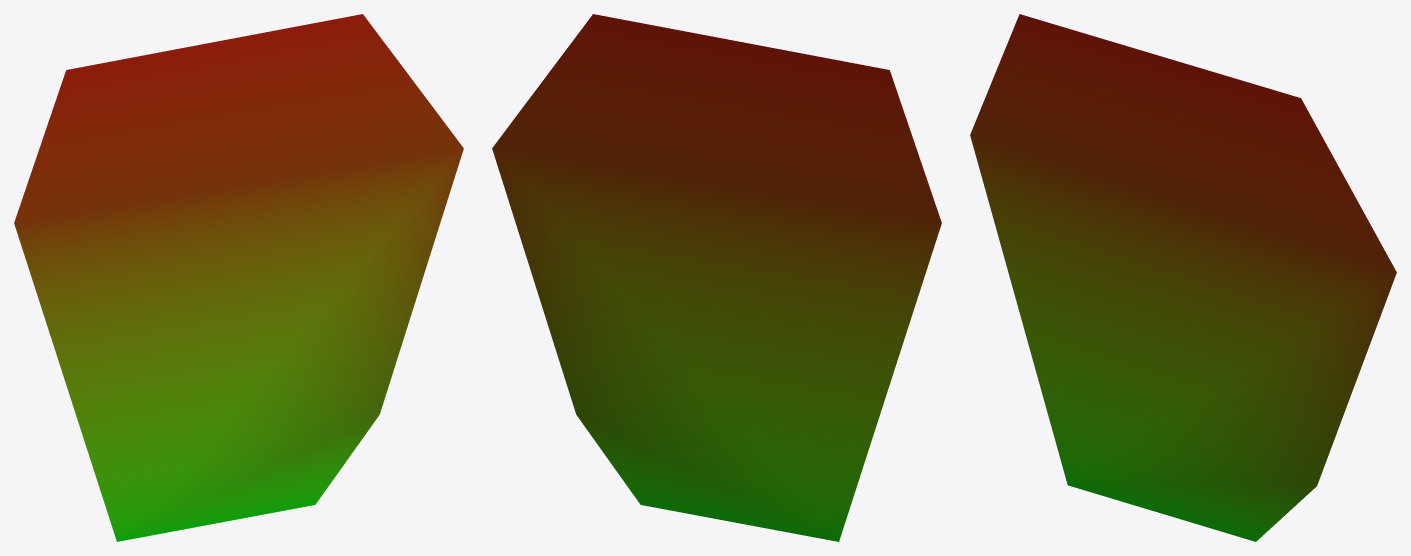
File: Var4_LOD4.fbx
3 renders of one model, left to right at view 1: azimuth 30°, elevation 25°; view 2: azimuth 150°, elevation 25°; view 3: azimuth 330°, elevation 25°, orthographic. The views are drawn at different scales.
Visible parts, largest first — view 1: _fnnz_Var4_LOD4; view 2: _fnnz_Var4_LOD4; view 3: _fnnz_Var4_LOD4.
Part boxes in pixels (<box>): _fnnz_Var4_LOD4: <box>14,14,463,541</box>; _fnnz_Var4_LOD4: <box>492,14,941,541</box>; _fnnz_Var4_LOD4: <box>970,14,1396,541</box>.
Size of the model in its own units: 20.8 by 21.89 by 1.2e-06.
